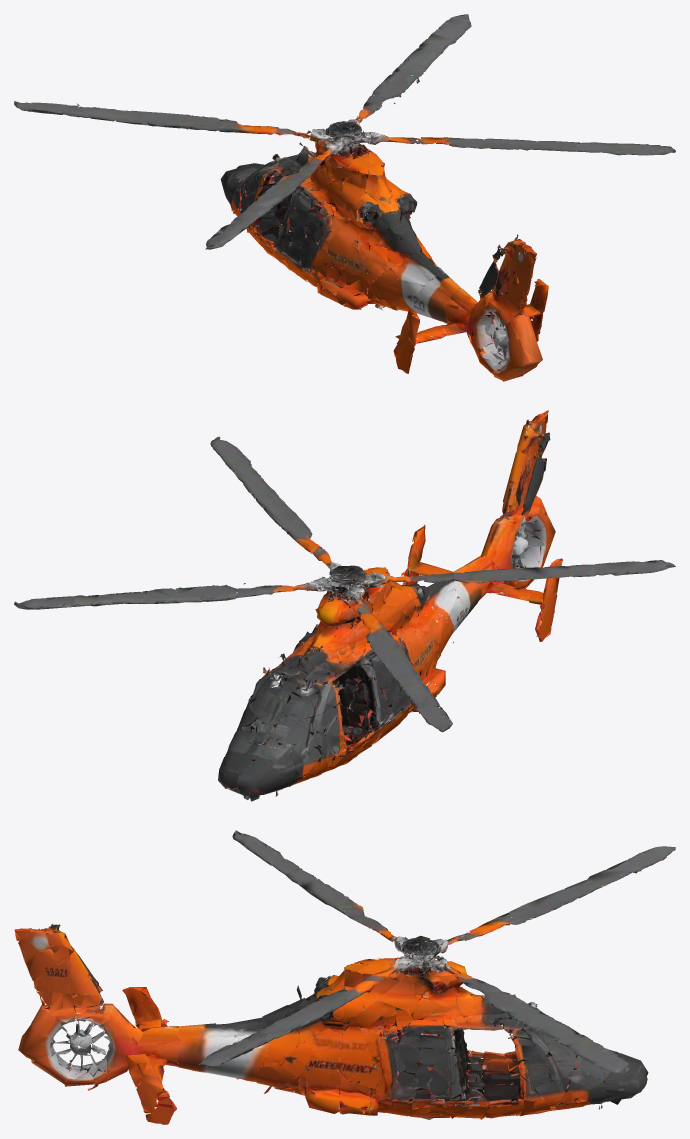
Rendered from heli-med.glb.
3 renders of one model, top to bottom at view 1: azimuth 30°, elevation 25°; view 2: azimuth 150°, elevation 25°; view 3: azimuth 270°, elevation 25°, orthographic. The views are drawn at different scales.
Visible parts, largest first — view 1: cabine, rotor_pales; view 2: cabine, rotor_pales; view 3: cabine, rotor_pales.
Part boxes in pixels (left/top/right/bottom): cabine: left=220, top=109, right=548, bottom=381; rotor_pales: left=14, top=14, right=675, bottom=249; cabine: left=218, top=410, right=562, bottom=801; rotor_pales: left=14, top=436, right=675, bottom=732; cabine: left=14, top=924, right=648, bottom=1124; rotor_pales: left=199, top=830, right=675, bottom=1073.
Bounding box in the file's own units: 1.59 × 0.5853 × 1.9.
1 material, 1 textured.
